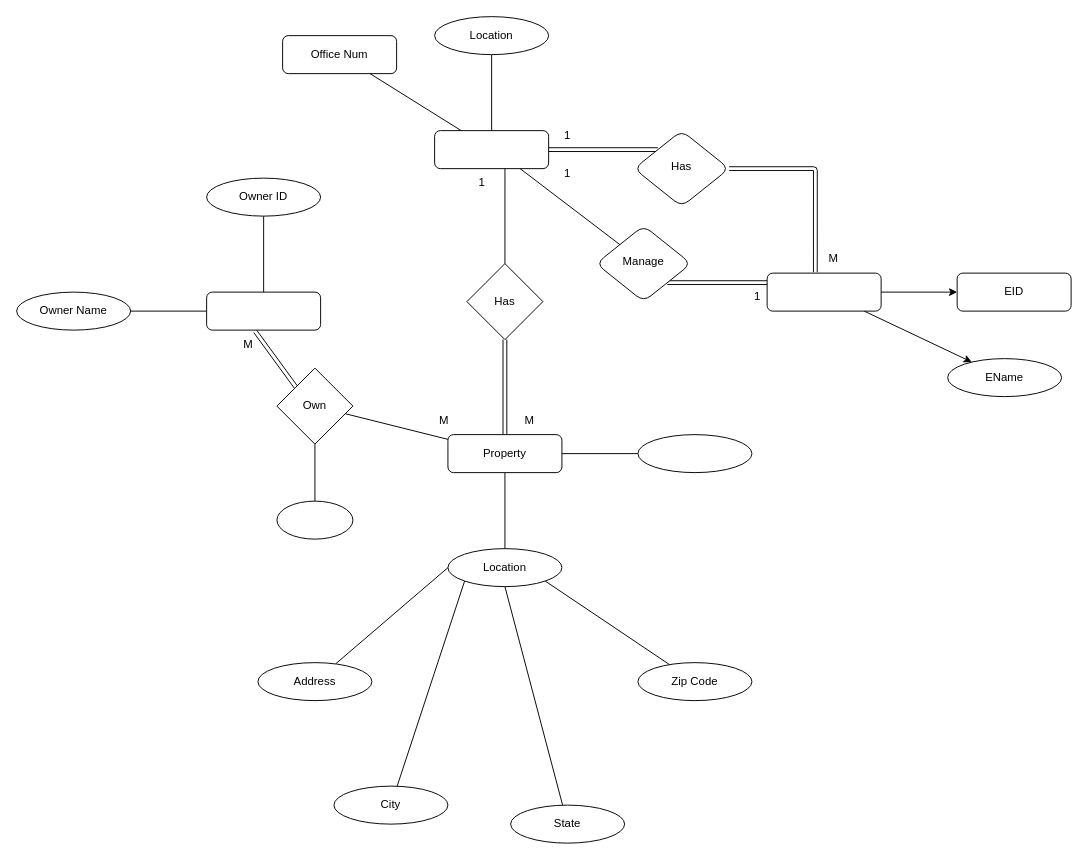
Image size: 1088x860. Some labels were removed from this diagram. Here are the shapes that lost their labels. From the top down, the centre of each, then its label:
At pixel 491 149: "Sales Office".
At pixel 263 310: "Owner".
At pixel 823 291: "Employee".
At pixel 694 453: "Property ID".
At pixel 314 519: "Precent".
